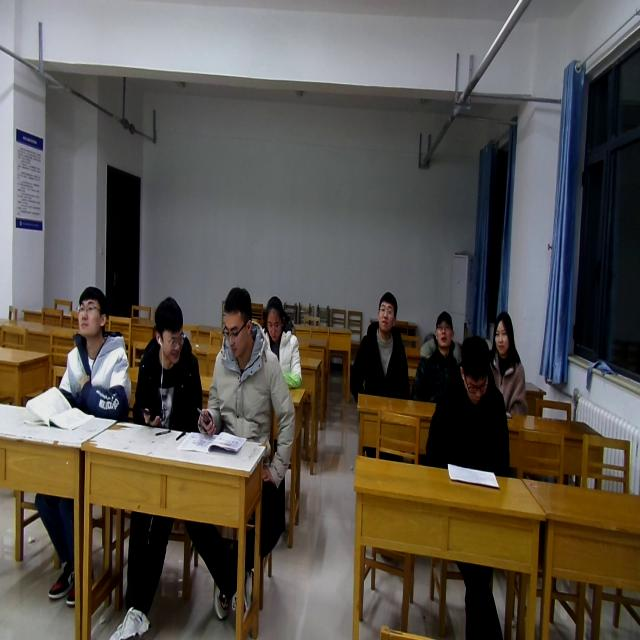down: (456, 331, 494, 407), (220, 284, 253, 362), (262, 290, 286, 344), (373, 284, 397, 336)
lookup: (76, 278, 110, 346), (488, 309, 516, 363), (430, 301, 456, 353)
sit: (195, 285, 295, 443), (422, 338, 512, 478), (56, 284, 132, 422), (131, 298, 204, 438), (348, 292, 412, 400), (412, 308, 467, 403), (486, 310, 530, 414), (262, 296, 304, 390)
